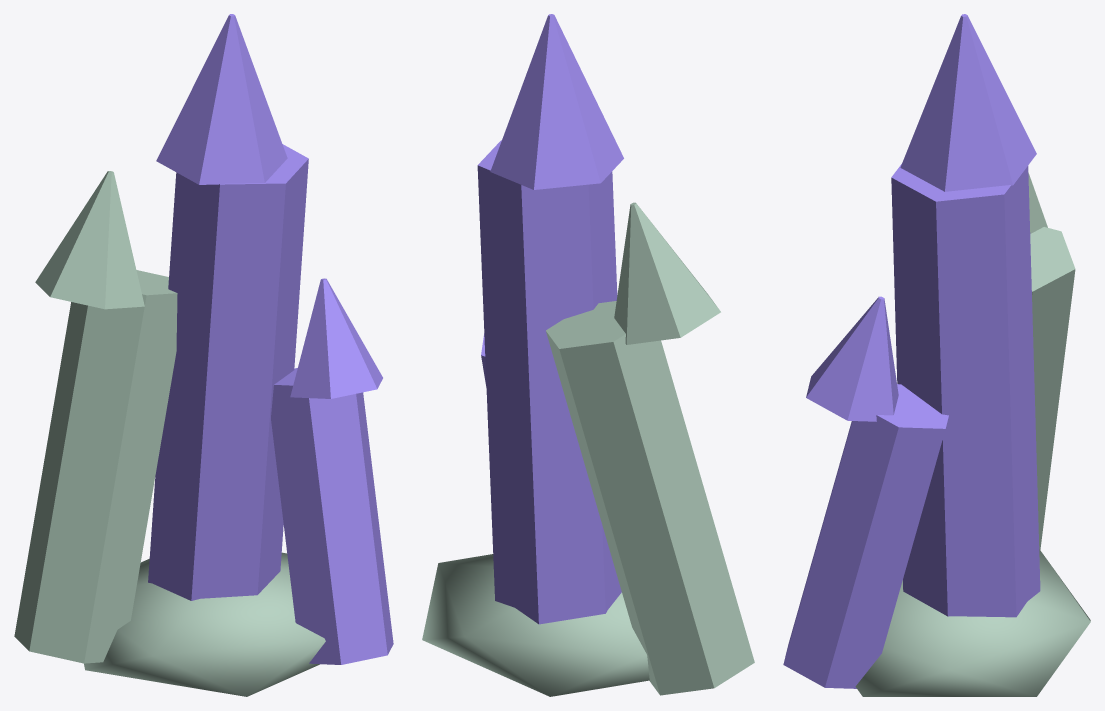
File: aurora-crystal-shard.glb
The picture shows the model from 3 angles, left to right: view 1: azimuth 30°, elevation 25°; view 2: azimuth 150°, elevation 25°; view 3: azimuth 270°, elevation 25°; orthographic projection. The views are drawn at different scales.
Parts seen in each view (by area): view 1: crystal_Shard1_Body, crystal_Shard2_Body, crystal_Shard3_Body, crystal_BaseCluster, crystal_Shard1_Tip, crystal_Shard2_Tip, crystal_Shard3_Tip; view 2: crystal_Shard1_Body, crystal_Shard2_Body, crystal_BaseCluster, crystal_Shard1_Tip, crystal_Shard2_Tip; view 3: crystal_Shard1_Body, crystal_Shard3_Body, crystal_BaseCluster, crystal_Shard1_Tip, crystal_Shard2_Body, crystal_Shard3_Tip, crystal_Shard2_Tip.
Part boxes in pixels (x1,y1,x2,y2): crystal_Shard1_Body: (148, 144, 308, 600); crystal_Shard2_Body: (14, 270, 177, 663); crystal_Shard3_Body: (271, 368, 393, 664); crystal_BaseCluster: (84, 552, 325, 696); crystal_Shard1_Tip: (156, 14, 287, 184); crystal_Shard2_Tip: (35, 171, 144, 309); crystal_Shard3_Tip: (290, 278, 382, 398); crystal_Shard1_Body: (477, 140, 621, 624); crystal_Shard2_Body: (546, 301, 754, 695); crystal_BaseCluster: (422, 554, 649, 696); crystal_Shard1_Tip: (490, 14, 623, 189); crystal_Shard2_Tip: (614, 202, 720, 344); crystal_Shard1_Body: (891, 164, 1040, 617); crystal_Shard3_Body: (783, 384, 948, 688); crystal_BaseCluster: (855, 549, 1090, 696); crystal_Shard1_Tip: (900, 14, 1036, 191); crystal_Shard2_Body: (1030, 227, 1075, 549); crystal_Shard3_Tip: (806, 296, 898, 421); crystal_Shard2_Tip: (1028, 172, 1047, 233).
Size of what is drawn, in the model's own units: 0.2314 by 0.44 by 0.1857.
